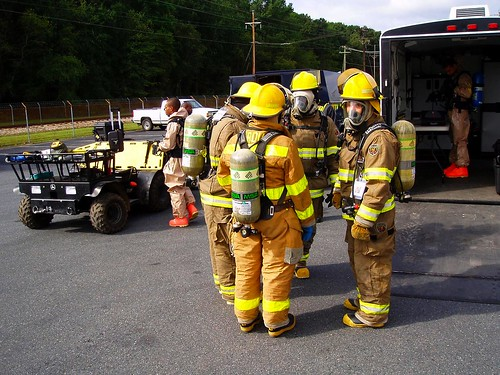firefighter: (326, 72, 407, 330), (224, 82, 305, 340), (206, 81, 253, 297), (290, 71, 337, 287), (150, 97, 199, 227)
vegetation: (1, 1, 356, 98)
